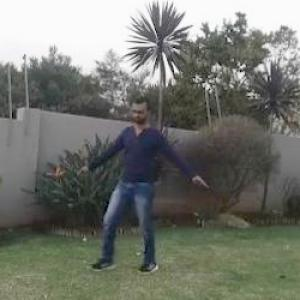land: (89, 104, 204, 251)
